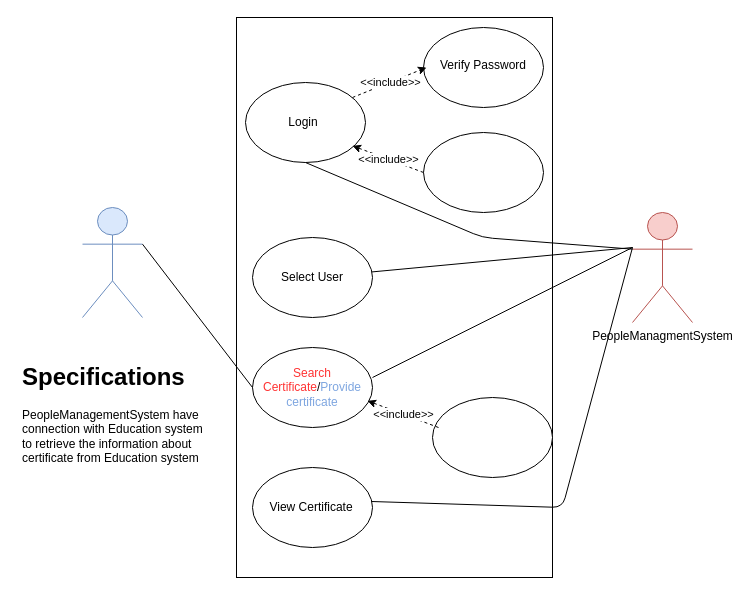
The diagram is 750 pixels wide and 595 high, and some of its shapes have lost their labels. Here are the shapes that lost their labels. From the top down, the centre of each, then its label:
At pixel 483 172: "Display Login Error".
At pixel 112 262: "Education".
At pixel 492 437: "Display notfound notification".
